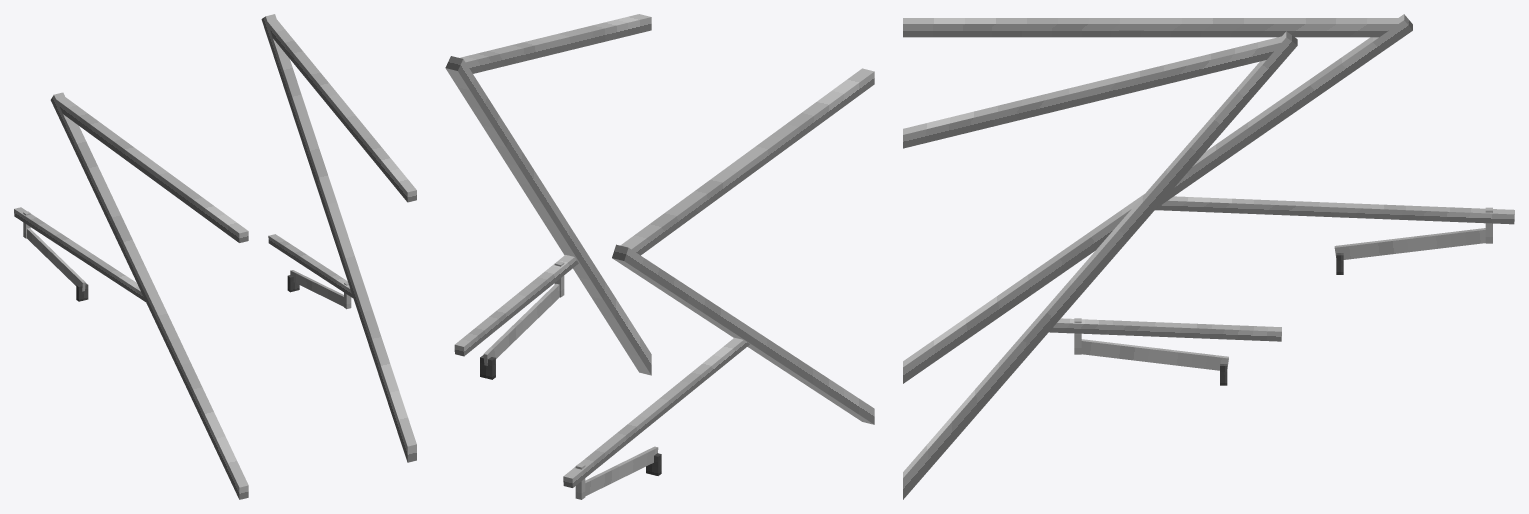
File: cantilever_center_12px.obj
3 renders of one model, left to right at view 1: azimuth 30°, elevation 25°; view 2: azimuth 150°, elevation 25°; view 3: azimuth 270°, elevation 25°, orthographic. The views are drawn at different scales.
Parts seen in each view (by area): view 1: 7496a981-9c2c-44b8-bb6f-aff073edd7fc, 6b508741-433a-4569-b25f-72434357b07c, a7b22315-a006-4f7c-be92-d17cf34036d4, 4e0a278c-76a6-4aff-a8ae-44443a253d27, 892e31e9-a368-4c9e-a03b-9f693f2acc06, 0b03e6db-bc42-47bc-a77c-d04afbab8039, 2a5b9cf1-6d1f-49d3-99a3-87d298a8607c, d0de9576-1843-437e-a78d-388f6819ba68; view 2: 7496a981-9c2c-44b8-bb6f-aff073edd7fc, a7b22315-a006-4f7c-be92-d17cf34036d4, 6b508741-433a-4569-b25f-72434357b07c, 4e0a278c-76a6-4aff-a8ae-44443a253d27, 892e31e9-a368-4c9e-a03b-9f693f2acc06, 0b03e6db-bc42-47bc-a77c-d04afbab8039, d0de9576-1843-437e-a78d-388f6819ba68, 2a5b9cf1-6d1f-49d3-99a3-87d298a8607c; view 3: 7496a981-9c2c-44b8-bb6f-aff073edd7fc, 6b508741-433a-4569-b25f-72434357b07c, a7b22315-a006-4f7c-be92-d17cf34036d4, 4e0a278c-76a6-4aff-a8ae-44443a253d27, 892e31e9-a368-4c9e-a03b-9f693f2acc06, 0b03e6db-bc42-47bc-a77c-d04afbab8039, 2a5b9cf1-6d1f-49d3-99a3-87d298a8607c, d0de9576-1843-437e-a78d-388f6819ba68.
Boxes of the visible parts, x1=… form: 7496a981-9c2c-44b8-bb6f-aff073edd7fc: x1=261, y1=14, x2=416, y2=462; 6b508741-433a-4569-b25f-72434357b07c: x1=50, y1=92, x2=248, y2=499; a7b22315-a006-4f7c-be92-d17cf34036d4: x1=56, y1=97, x2=248, y2=242; 4e0a278c-76a6-4aff-a8ae-44443a253d27: x1=267, y1=19, x2=416, y2=202; 892e31e9-a368-4c9e-a03b-9f693f2acc06: x1=14, y1=207, x2=145, y2=301; 0b03e6db-bc42-47bc-a77c-d04afbab8039: x1=268, y1=234, x2=352, y2=297; 2a5b9cf1-6d1f-49d3-99a3-87d298a8607c: x1=27, y1=228, x2=85, y2=291; d0de9576-1843-437e-a78d-388f6819ba68: x1=290, y1=270, x2=343, y2=306; 7496a981-9c2c-44b8-bb6f-aff073edd7fc: x1=445, y1=56, x2=651, y2=375; a7b22315-a006-4f7c-be92-d17cf34036d4: x1=620, y1=68, x2=874, y2=255; 6b508741-433a-4569-b25f-72434357b07c: x1=612, y1=244, x2=874, y2=424; 4e0a278c-76a6-4aff-a8ae-44443a253d27: x1=460, y1=14, x2=651, y2=73; 892e31e9-a368-4c9e-a03b-9f693f2acc06: x1=563, y1=337, x2=749, y2=487; 0b03e6db-bc42-47bc-a77c-d04afbab8039: x1=454, y1=255, x2=578, y2=356; d0de9576-1843-437e-a78d-388f6819ba68: x1=483, y1=284, x2=559, y2=365; 2a5b9cf1-6d1f-49d3-99a3-87d298a8607c: x1=585, y1=446, x2=658, y2=496; 7496a981-9c2c-44b8-bb6f-aff073edd7fc: x1=903, y1=31, x2=1297, y2=499; 6b508741-433a-4569-b25f-72434357b07c: x1=903, y1=14, x2=1412, y2=383; a7b22315-a006-4f7c-be92-d17cf34036d4: x1=903, y1=18, x2=1398, y2=37; 4e0a278c-76a6-4aff-a8ae-44443a253d27: x1=903, y1=36, x2=1281, y2=148; 892e31e9-a368-4c9e-a03b-9f693f2acc06: x1=1155, y1=196, x2=1514, y2=224; 0b03e6db-bc42-47bc-a77c-d04afbab8039: x1=1049, y1=318, x2=1281, y2=341; 2a5b9cf1-6d1f-49d3-99a3-87d298a8607c: x1=1334, y1=228, x2=1485, y2=259; d0de9576-1843-437e-a78d-388f6819ba68: x1=1081, y1=339, x2=1228, y2=370.
Bounding box in the file's own units: 1.19 × 2.19 × 2.62.
